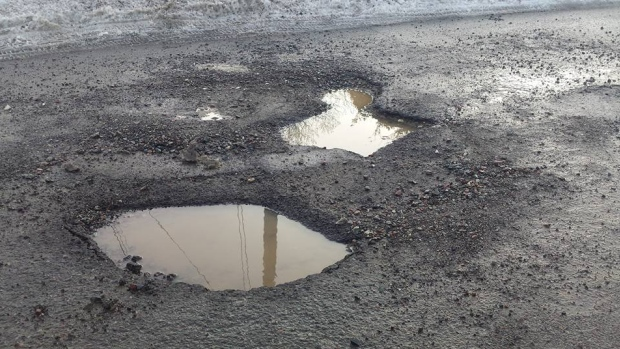pothole: (69, 190, 392, 310), (267, 66, 459, 178)
